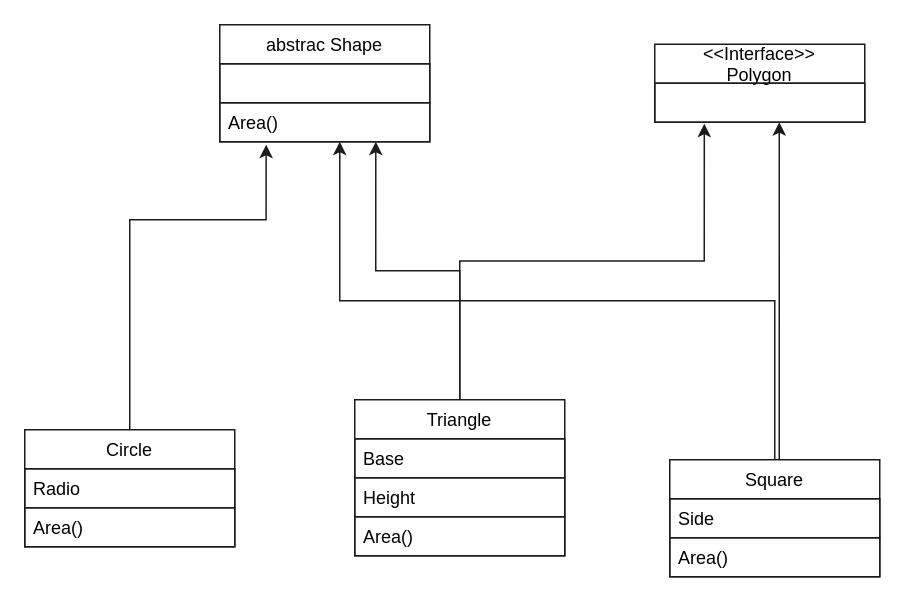
The diagram is 905 pixels wide and 602 high, and some of its shapes have lost their labels. The shapes that lost their labels are listed below. From the top down, each one's centre as x and y in pixels, then its label:
the point at 324,82: Name
the point at 759,102: NumeroLados()
